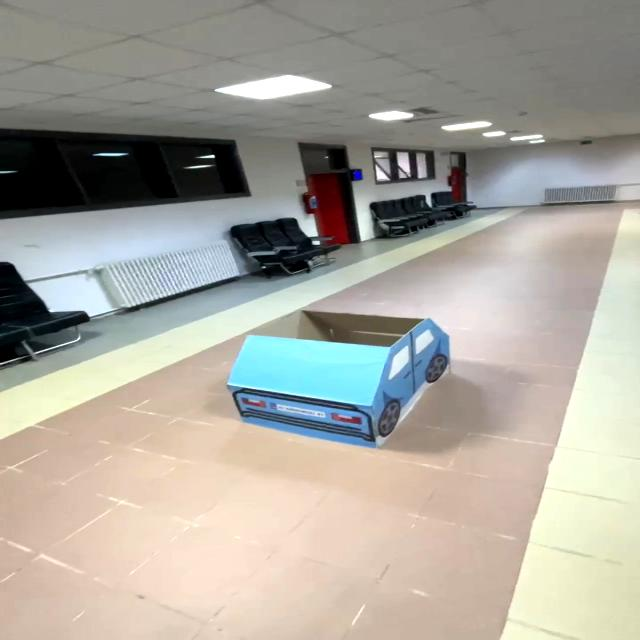blue_car: (192, 288, 475, 468)
